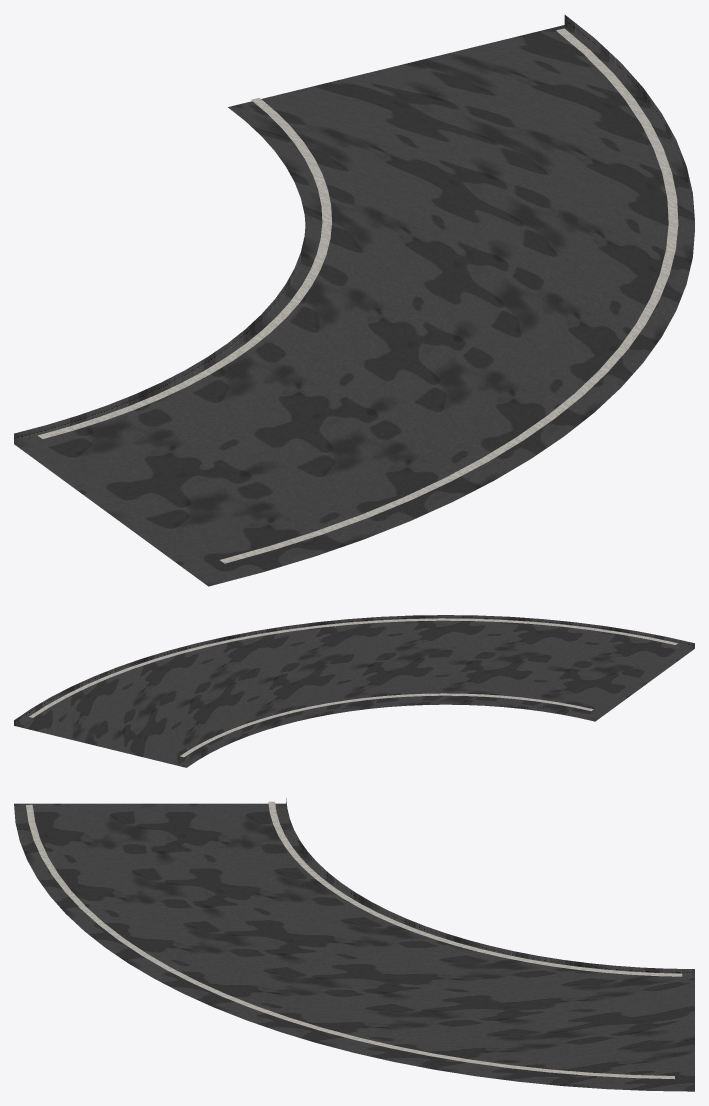
The model's file is road.asphalt.curve.glb.
3 views of the same model, one above another, from view 1: azimuth 30°, elevation 25°; view 2: azimuth 150°, elevation 25°; view 3: azimuth 270°, elevation 25° (orthographic). The views are drawn at different scales.
Visible parts, largest first — view 1: road.asphalt.curve; view 2: road.asphalt.curve; view 3: road.asphalt.curve.
Boxes of the visible parts, bbox=[...] form: road.asphalt.curve: bbox=[14, 15, 694, 586]; road.asphalt.curve: bbox=[14, 615, 694, 767]; road.asphalt.curve: bbox=[14, 798, 694, 1091].
Size of the model in its own units: 10 by 0.124 by 10.
Materials: 2 (2 with a texture image).
